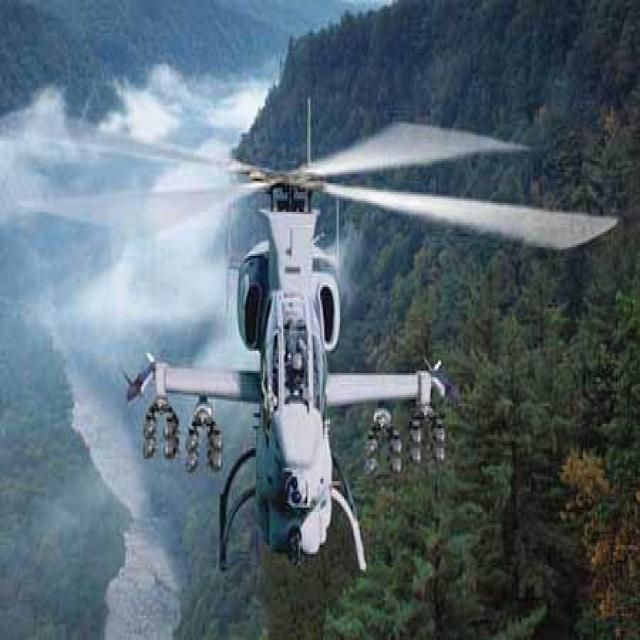MIL_HELO: (11, 87, 627, 581)
